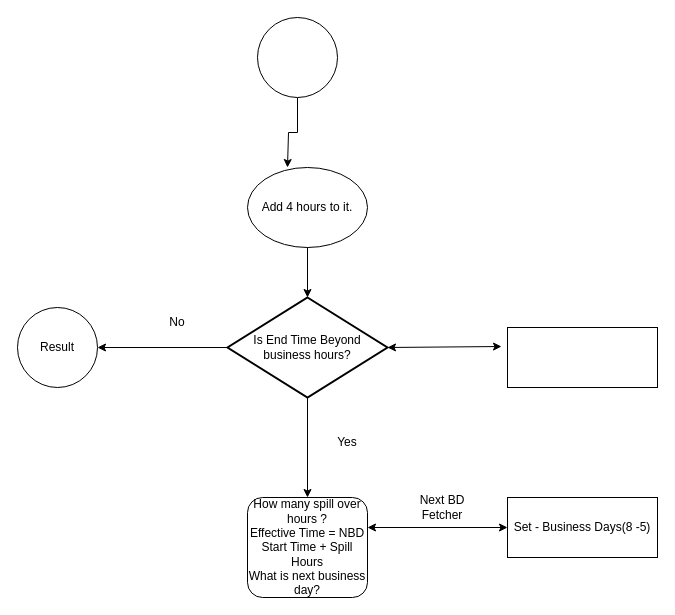
Image size: 675x615. Some labels were removed from this diagram. The shapes that lost their labels are listed below. From the top down, each one's box as (x1, y1, x2, y2) in pixels, then its label:
(256, 16, 338, 98): Start time
(506, 326, 658, 388): Business Hours (8 -5)
